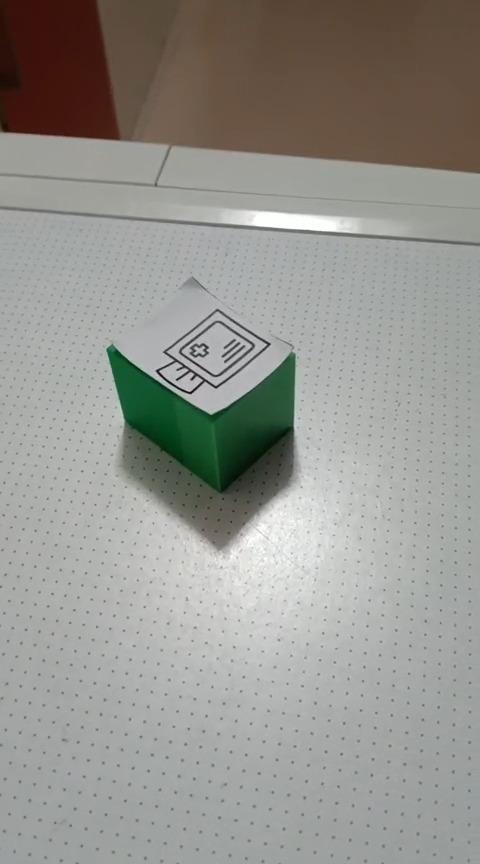Gauze: (105, 274, 296, 493)
